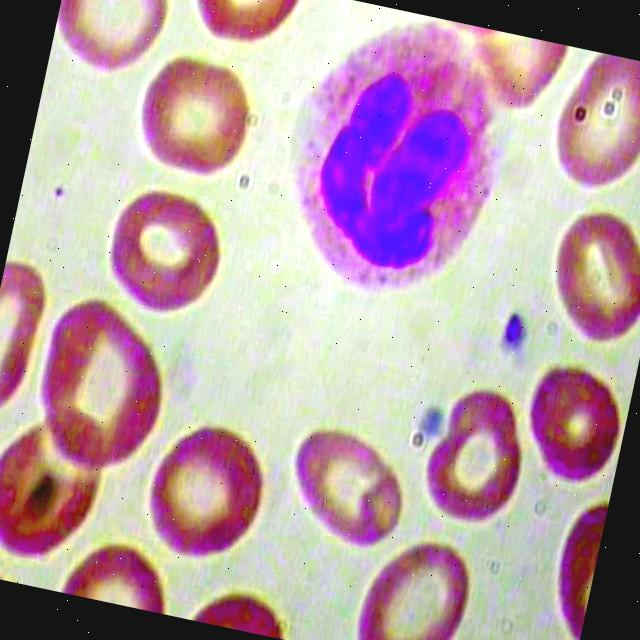Platelets: (493, 305, 542, 358)
RBC: (21, 285, 185, 479), (120, 36, 270, 200), (89, 170, 239, 333), (130, 410, 280, 572), (273, 413, 423, 574), (402, 380, 552, 541), (514, 350, 635, 504), (533, 198, 640, 357), (346, 526, 494, 640), (546, 47, 640, 208), (47, 0, 180, 87)
WBC: (248, 0, 530, 332)
